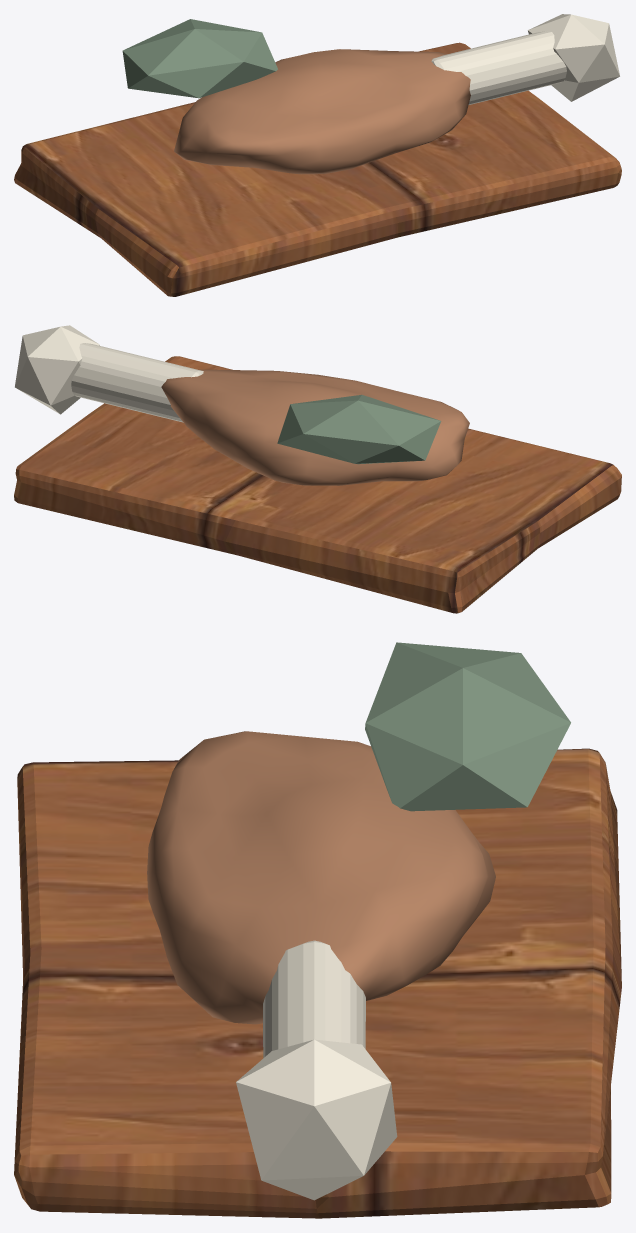
The model's file is dish_beetle_roast.glb.
The picture shows the model from 3 angles, top to bottom: view 1: azimuth 30°, elevation 25°; view 2: azimuth 150°, elevation 25°; view 3: azimuth 270°, elevation 25°; orthographic projection. The views are drawn at different scales.
Parts seen in each view (by area): view 1: model; view 2: model; view 3: model.
Boxes of the visible parts, x1,y1,x2,y2 form: model: (14,14,621,296); model: (14,325,621,613); model: (14,642,621,1218).
Size of the model in its own units: 0.3703 by 0.1046 by 0.2044.
Materials: 4 (1 with a texture image).
